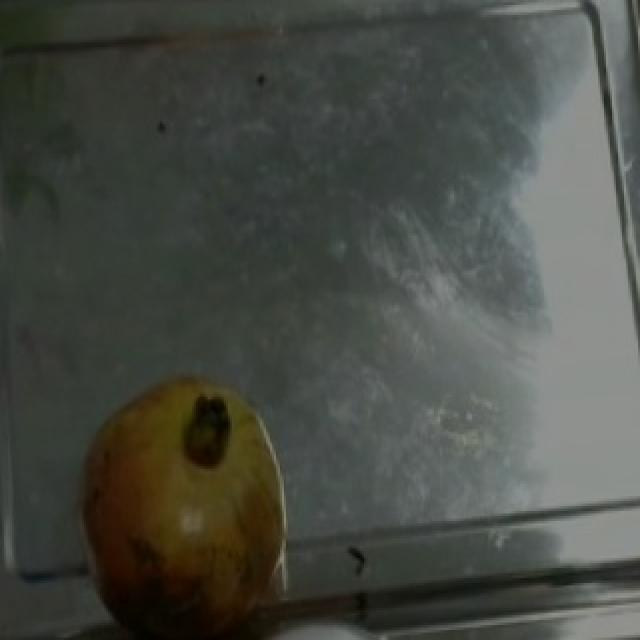fruit: (42, 350, 310, 630)
